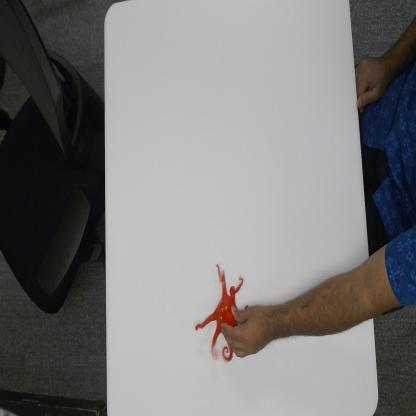Arm: (275, 243, 379, 339)
Hand: (220, 302, 278, 360)
Octopus: (194, 263, 252, 366)
